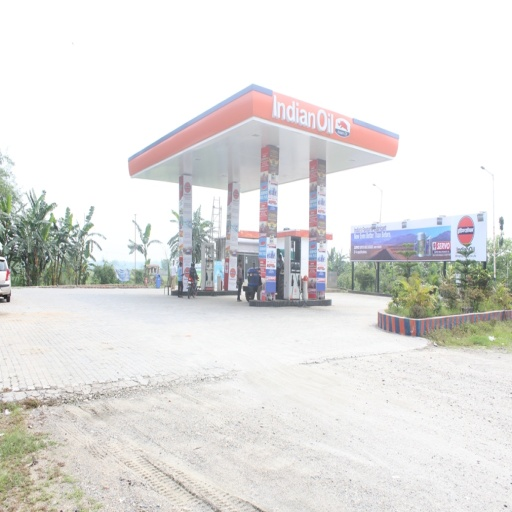roof: (134, 85, 402, 183)
